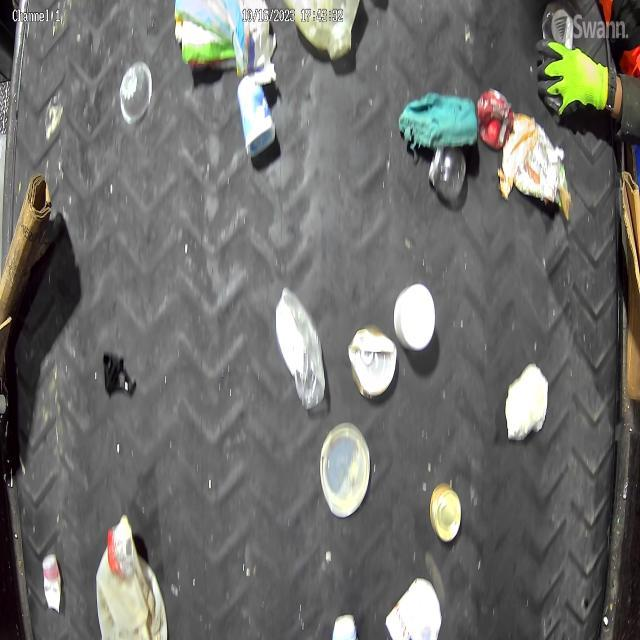can: (346, 322, 400, 404), (476, 78, 516, 158), (427, 468, 462, 548)
milk_jug: (98, 508, 168, 640), (286, 0, 366, 71)
